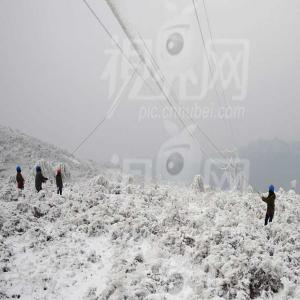blue: (269, 185, 276, 195), (36, 166, 42, 174), (17, 167, 22, 173)
red: (58, 169, 62, 175)
